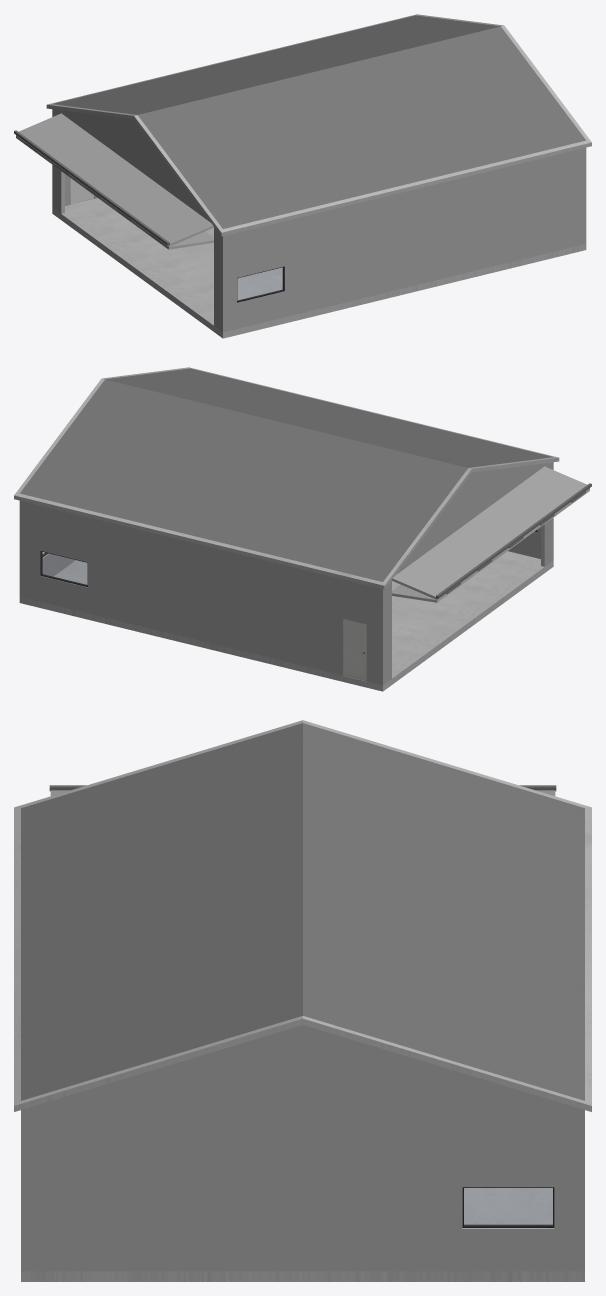
Rendered from gen_open_hangar06-12x15x4-cbj_LOD00.gltf.
The picture shows the model from 3 angles, top to bottom: view 1: azimuth 30°, elevation 25°; view 2: azimuth 150°, elevation 25°; view 3: azimuth 270°, elevation 25°; orthographic projection. The views are drawn at different scales.
Visible parts, largest first — view 1: Cube.017; view 2: Cube.017; view 3: Cube.017.
Boxes of the visible parts, box(x1,y1,x2,y2) form: Cube.017: box(14, 14, 591, 338); Cube.017: box(14, 367, 591, 691); Cube.017: box(14, 720, 591, 1281).
Bounding box in the file's own units: 17.2 × 6.4 × 12.6.
